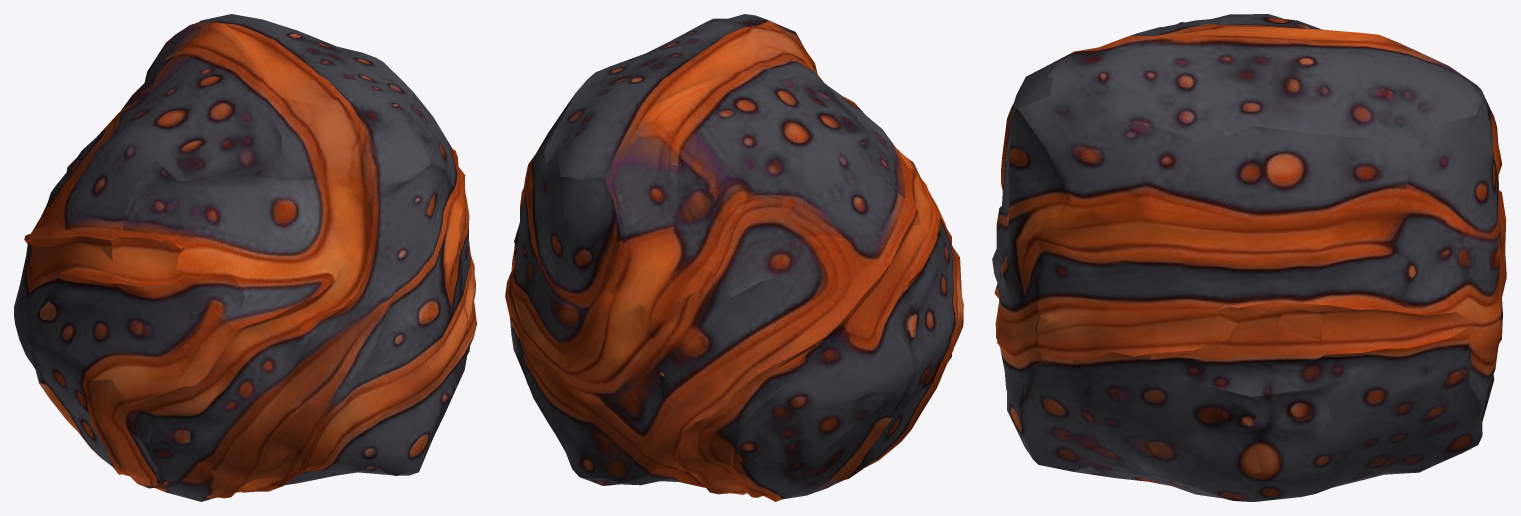
The model's file is copper.glb.
The picture shows the model from 3 angles, left to right: view 1: azimuth 30°, elevation 25°; view 2: azimuth 150°, elevation 25°; view 3: azimuth 270°, elevation 25°; orthographic projection. The views are drawn at different scales.
Visible parts, largest first — view 1: copper; view 2: copper; view 3: copper.
Part boxes in pixels (x1,y1,x2,y2): copper: [14, 14, 476, 501]; copper: [505, 14, 963, 501]; copper: [992, 14, 1506, 501].
Size of the model in its own units: 1 by 0.9763 by 0.9999.
Materials: 1 (1 with a texture image).
